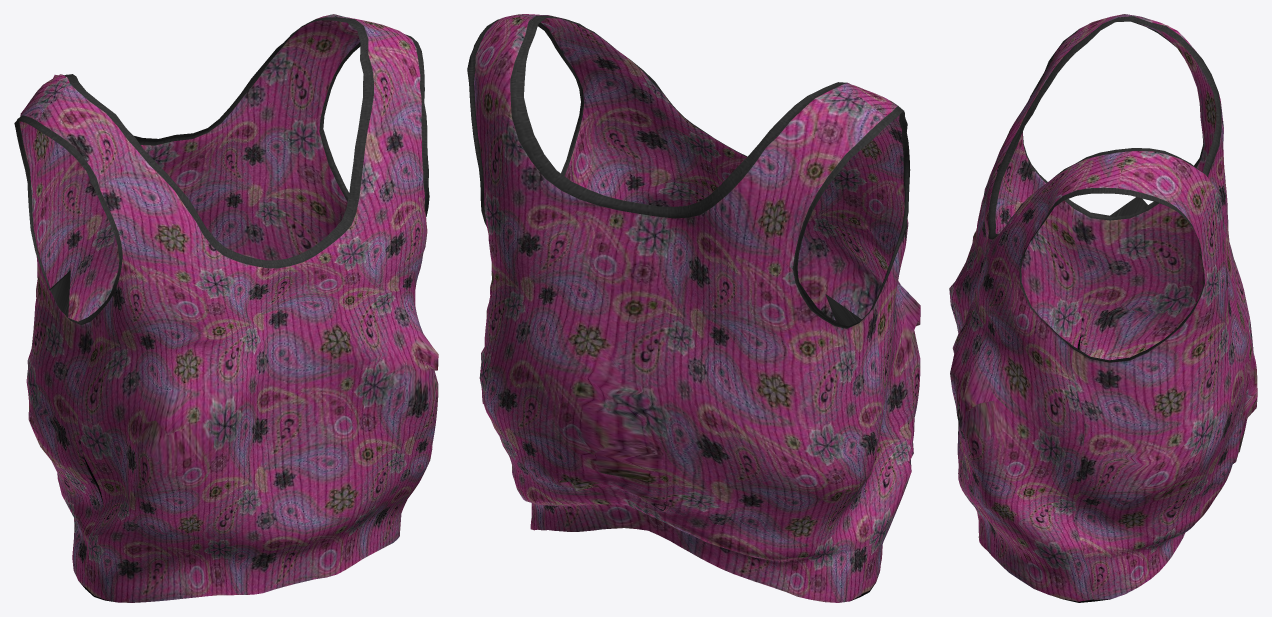
The model's file is top_camisole.gltf.
The picture shows the model from 3 angles, left to right: view 1: azimuth 30°, elevation 25°; view 2: azimuth 150°, elevation 25°; view 3: azimuth 270°, elevation 25°; orthographic projection. The views are drawn at different scales.
Visible parts, largest first — view 1: top_camisole; view 2: top_camisole; view 3: top_camisole.
Boxes of the visible parts, x1,y1,x2,y2 form: top_camisole: (14, 14, 438, 602); top_camisole: (467, 14, 920, 602); top_camisole: (949, 14, 1257, 602).
Size of the model in its own units: 0.383 by 0.4747 by 0.2905.
Materials: 1 (1 with a texture image).
